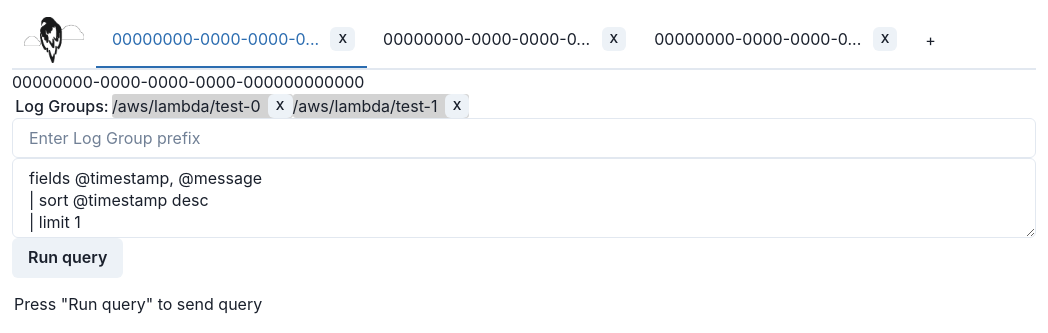
Test: dashboard › should handle failed query execution
Click the button "Run query" at {"x": 68, "y": 258}, box [12, 238, 123, 278]
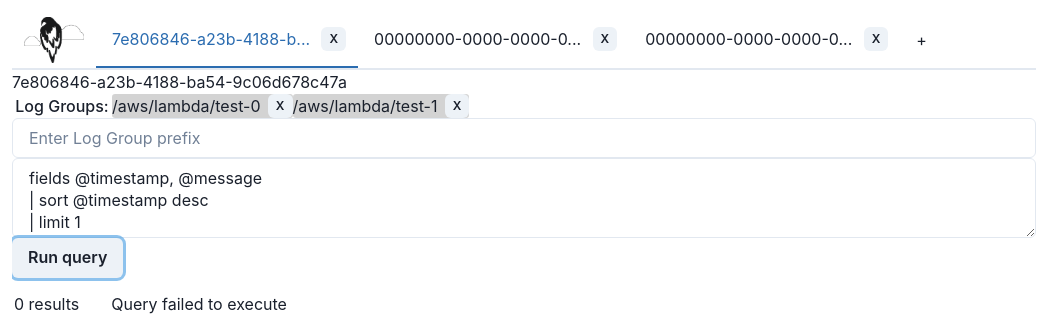
Check: the text "Query failed to execute" is shown, box [111, 292, 287, 316]
